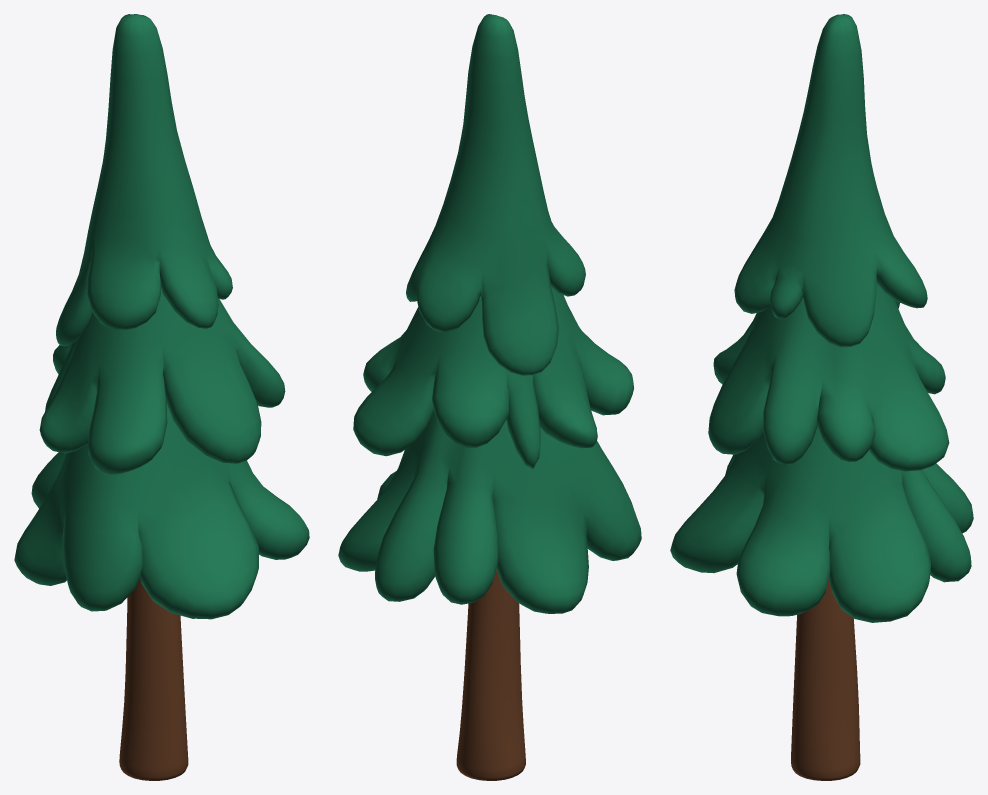
File: Pine_06.glb
3 renders of one model, left to right at view 1: azimuth 30°, elevation 25°; view 2: azimuth 150°, elevation 25°; view 3: azimuth 270°, elevation 25°, orthographic.
Visible parts, largest first — view 1: Pine_06_LOD0; view 2: Pine_06_LOD0; view 3: Pine_06_LOD0.
Part boxes in pixels (box(x1,y1,x2,y2)): Pine_06_LOD0: box(14, 14, 309, 780); Pine_06_LOD0: box(338, 14, 641, 780); Pine_06_LOD0: box(670, 14, 973, 780).
Bounding box in the file's own units: 4.51 × 13.7 × 5.04.
Materials: 1 (1 with a texture image).
